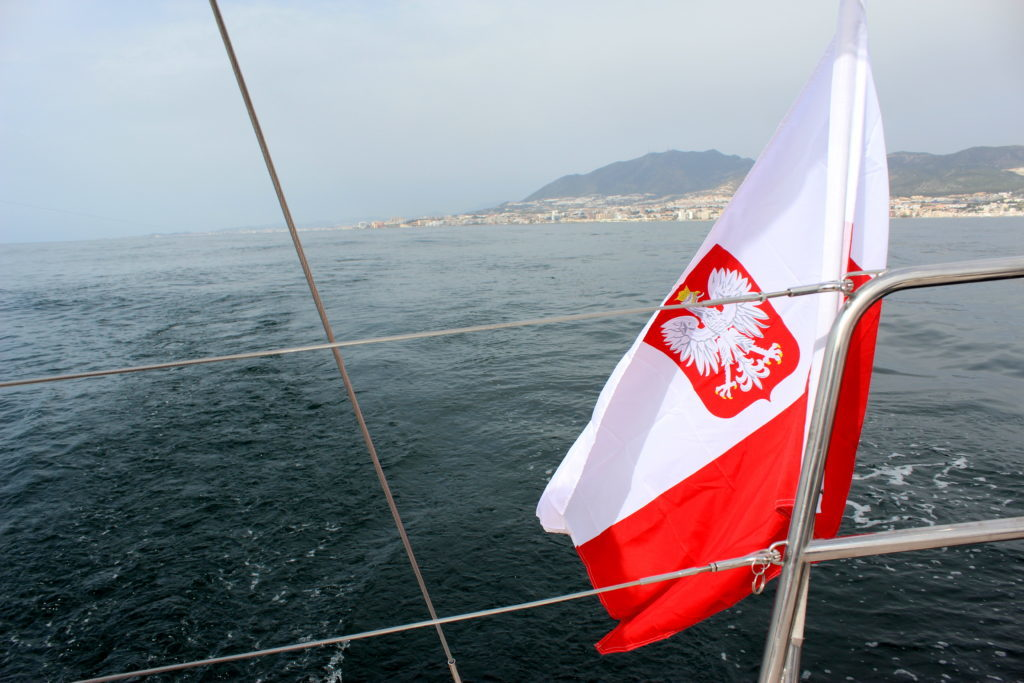Flag: (528, 1, 897, 655)
